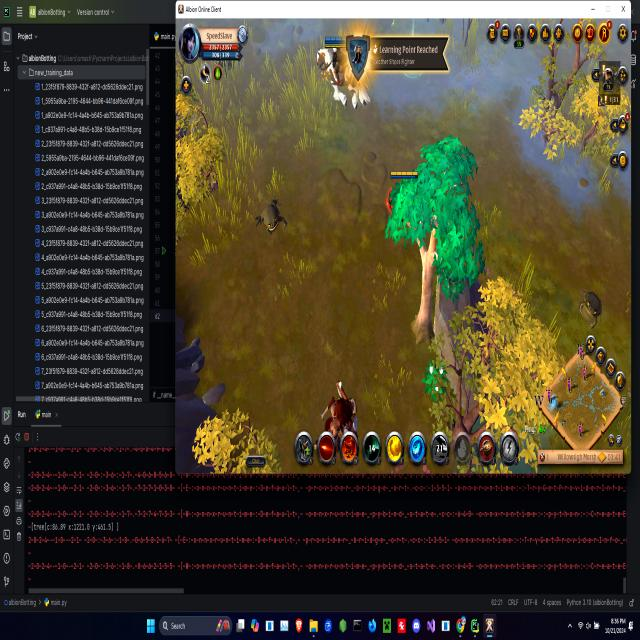hide: (422, 356, 452, 408)
ore: (322, 374, 361, 440), (254, 196, 290, 248), (577, 282, 604, 335)
red: (313, 31, 377, 114), (389, 169, 421, 230)
wisp caged: (384, 138, 485, 346)
